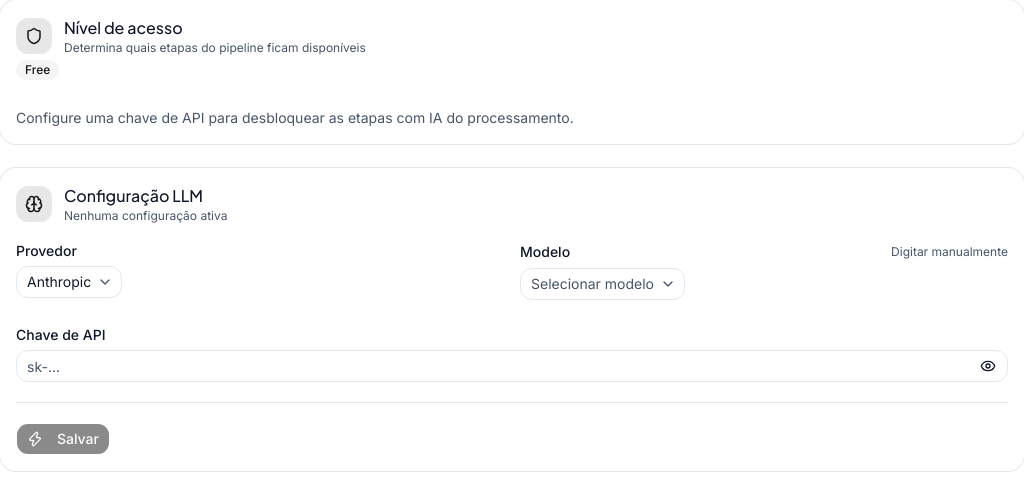
it: LLMTab — habilitação do Salvar › sem config: Salvar exige chave de API
Check: the button "Salvar" is disabled, box [16,423,110,455]
Type "sk-ant-nova-chave" into the password field labelled "Chave de API" at (512, 366), box [16,350,1008,382]
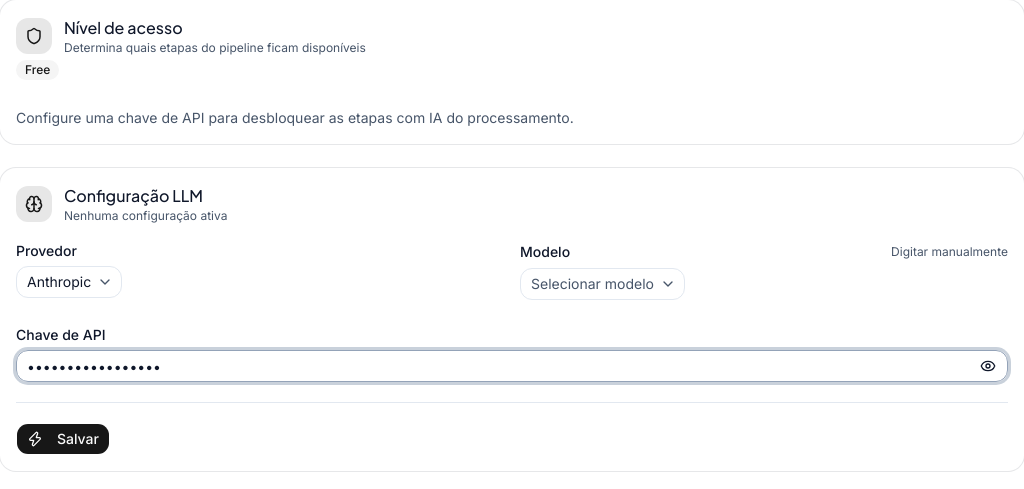
Check: the button "Salvar" is enabled, box [16,423,110,455]
